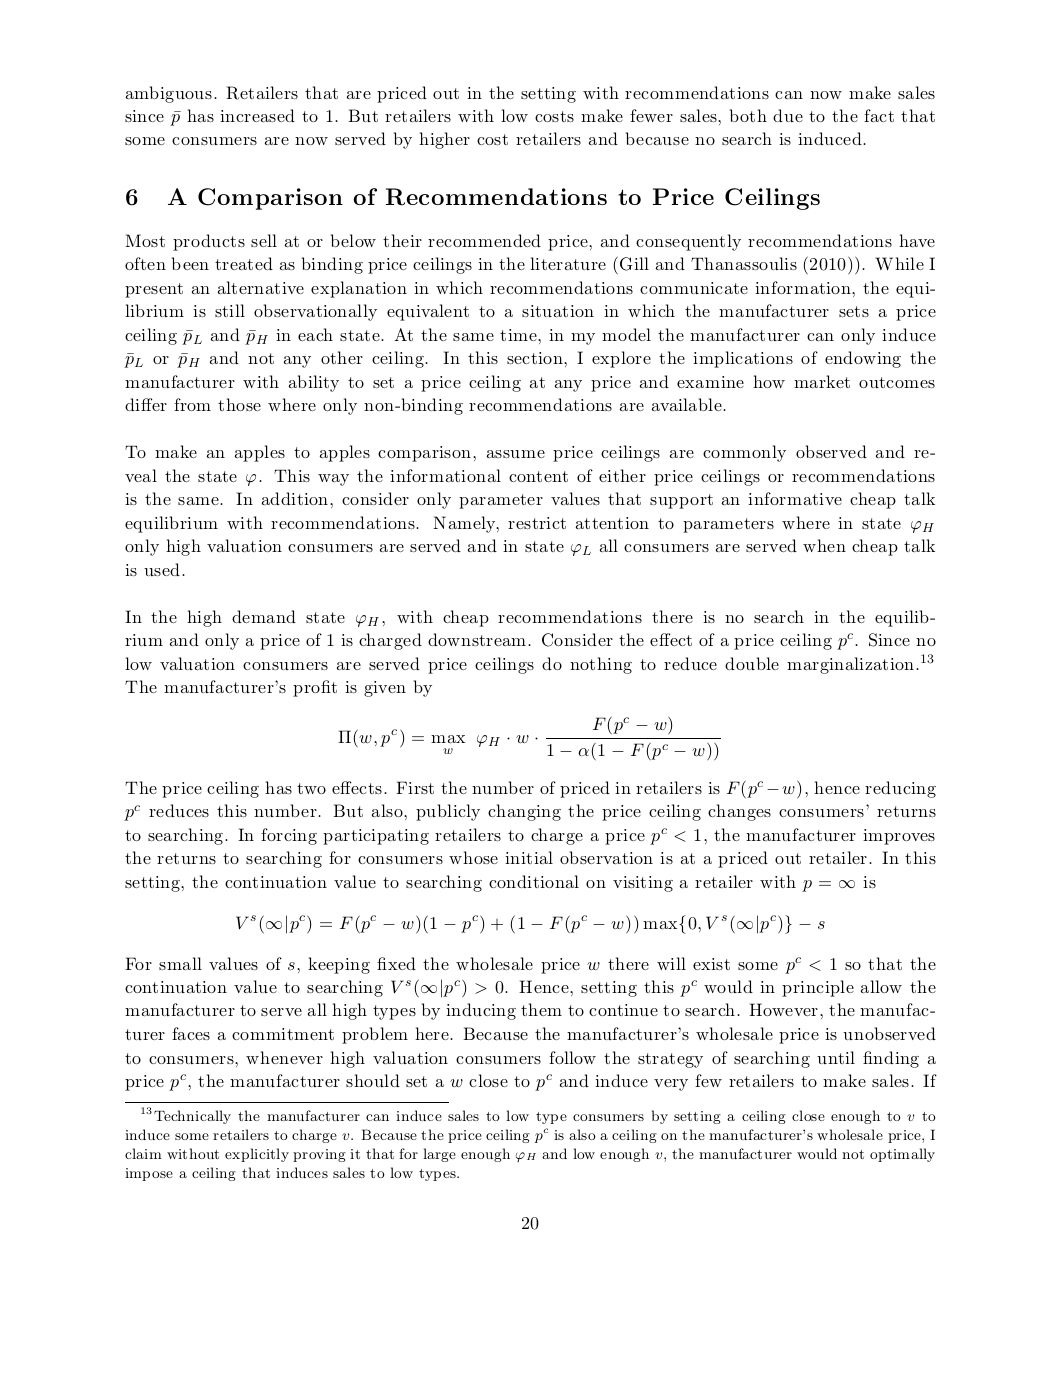formula: (338, 715, 720, 761), (236, 914, 824, 934)
